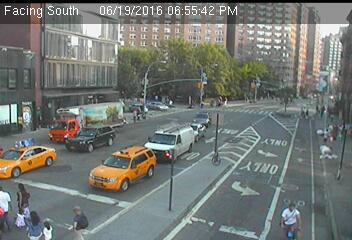neg: (275, 198, 306, 239), (277, 93, 296, 118)
pos: (65, 203, 91, 237), (9, 179, 34, 212), (22, 210, 42, 237), (40, 219, 54, 237)
